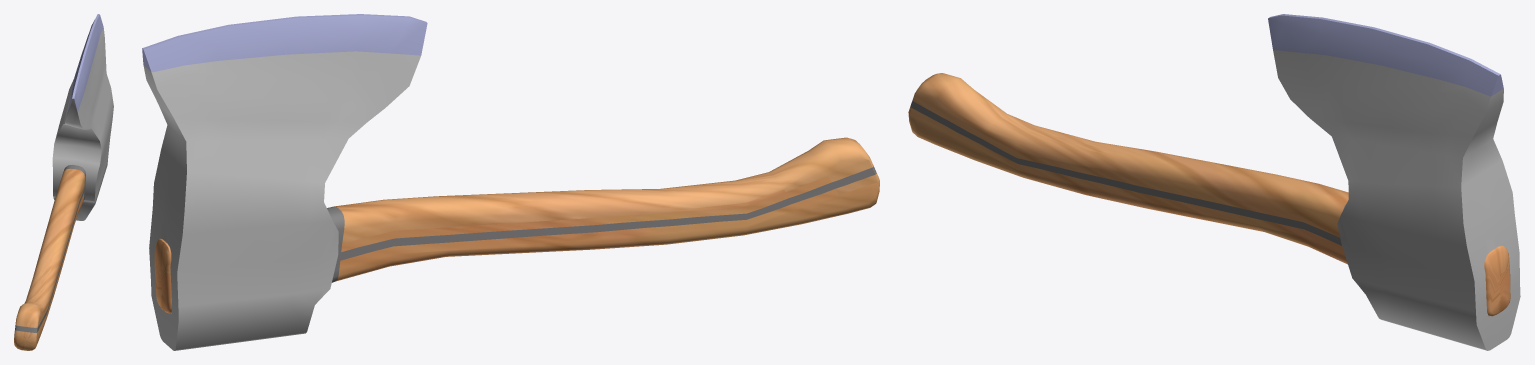
The model's file is Axe_1.fbx.
3 views of the same model, side by side, from view 1: azimuth 30°, elevation 25°; view 2: azimuth 150°, elevation 25°; view 3: azimuth 270°, elevation 25° (orthographic). The views are drawn at different scales.
Parts seen in each view (by area): view 1: Axe_1; view 2: Axe_1; view 3: Axe_1.
Boxes of the visible parts, x1,y1,x2,y2 form: Axe_1: (14, 14, 113, 350); Axe_1: (142, 14, 879, 350); Axe_1: (908, 14, 1520, 350).
Size of the model in its own units: 33.35 by 21.64 by 40.69.
4 materials, 1 textured.
